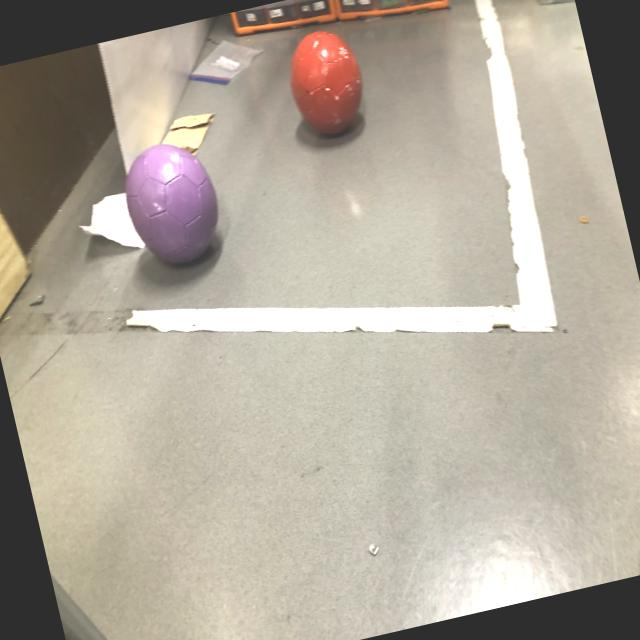purple_ball: (115, 134, 232, 274)
red_ball: (279, 21, 373, 142)
